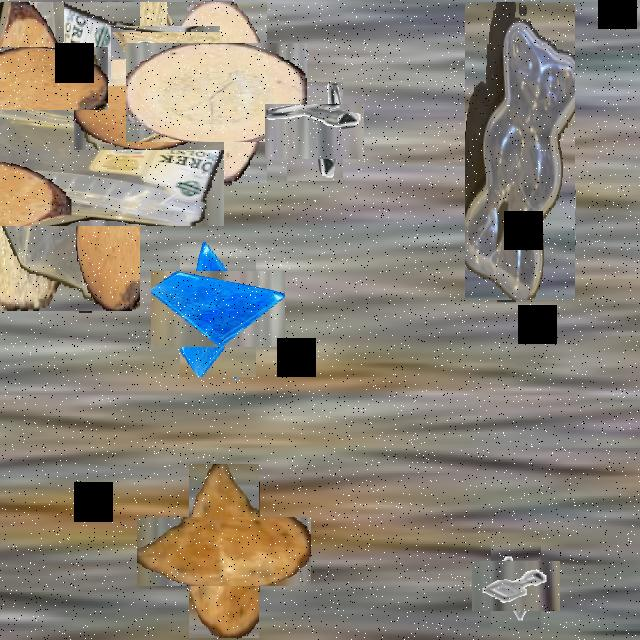glass: (165, 257, 271, 362)
metal: (122, 14, 208, 100), (276, 93, 354, 170), (481, 552, 551, 621)
plastic: (0, 44, 182, 268), (465, 2, 575, 300)
wood: (44, 2, 184, 226), (147, 22, 287, 163), (163, 490, 285, 612), (0, 23, 86, 132)
